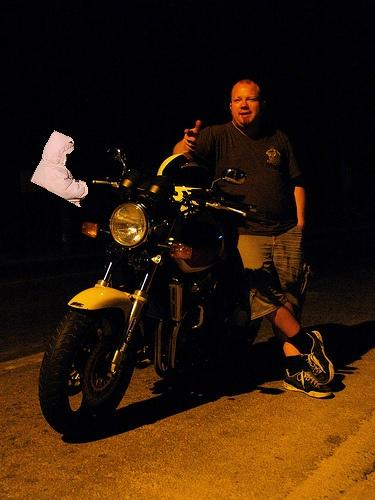tampered: (31, 131, 88, 207)
